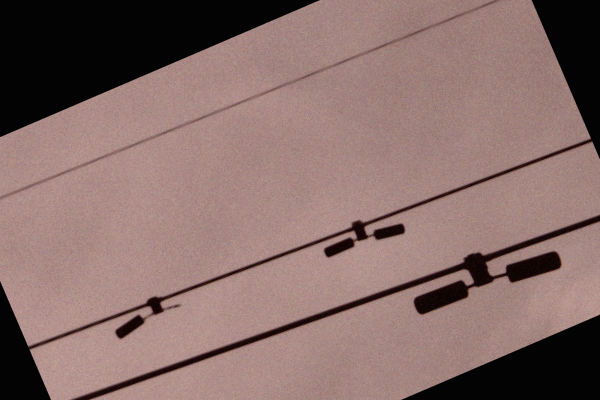damper: (410, 240, 564, 317), (319, 217, 408, 259)
damper_defect: (106, 294, 187, 342)
